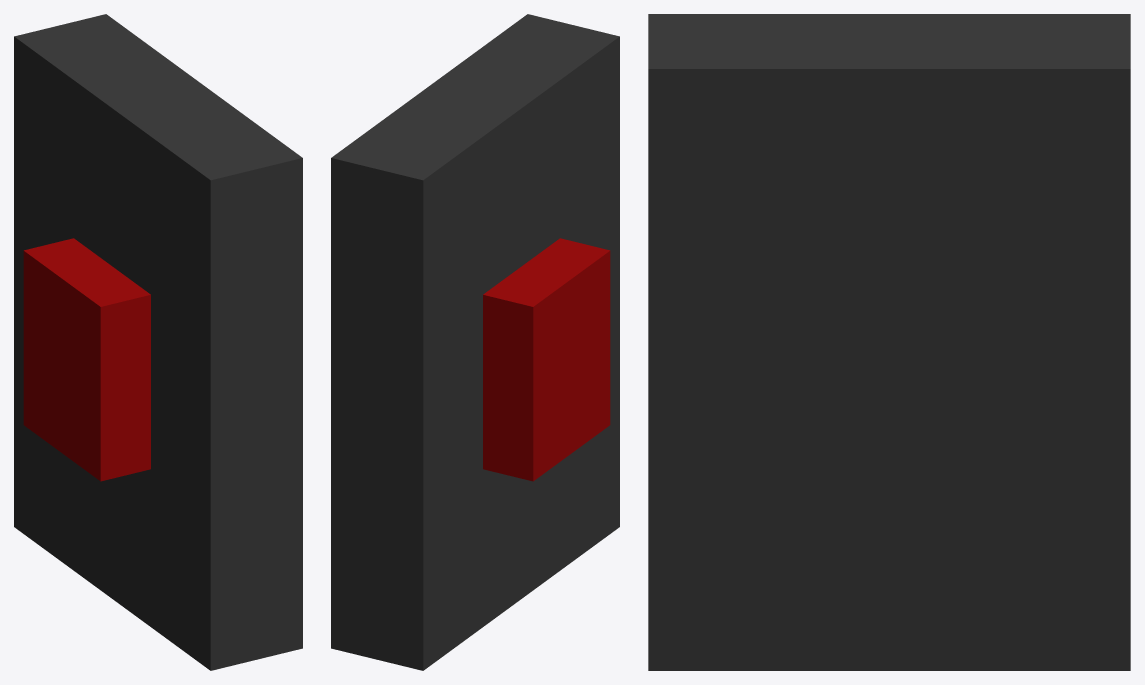
Rendered from button_exported.fbx.
3 renders of one model, left to right at view 1: azimuth 30°, elevation 25°; view 2: azimuth 150°, elevation 25°; view 3: azimuth 270°, elevation 25°, orthographic. The views are drawn at different scales.
Visible parts, largest first — view 1: Button1, Button; view 2: Button1, Button; view 3: Button1.
Boxes of the visible parts, x1=… form: Button1: x1=14, y1=14, x2=302, y2=670; Button: x1=23, y1=238, x2=150, y2=481; Button1: x1=331, y1=14, x2=619, y2=670; Button: x1=483, y1=238, x2=610, y2=481; Button1: x1=648, y1=14, x2=1130, y2=670.
Size of the model in its own units: 0.3052 by 1 by 0.7298.
